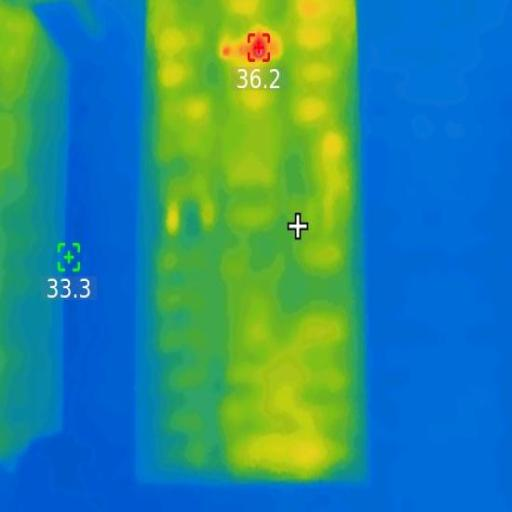hotspot: (248, 32, 274, 60), (222, 43, 234, 59)
